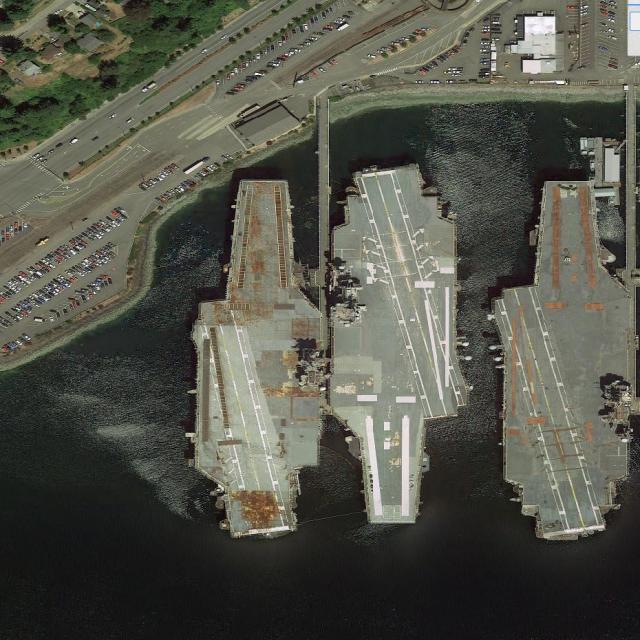Aircraft Carrier: (487, 180, 635, 536), (325, 165, 471, 524), (187, 180, 329, 537)
Dock: (319, 102, 329, 342)
